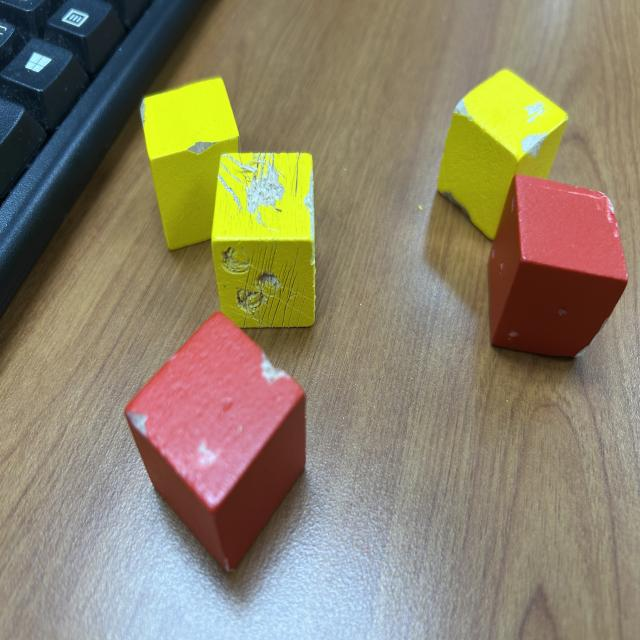broken: (124, 311, 306, 572), (487, 174, 628, 359), (435, 68, 568, 244), (212, 151, 316, 330), (140, 76, 243, 252)
